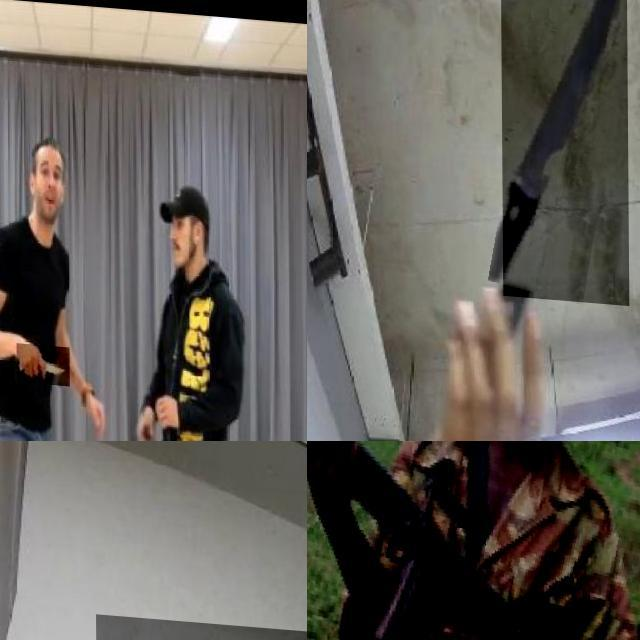-: (500, 0, 628, 297), (16, 339, 69, 381)
gun-knife-thesis - v11 Yolov5 augmented: (307, 441, 640, 640)
